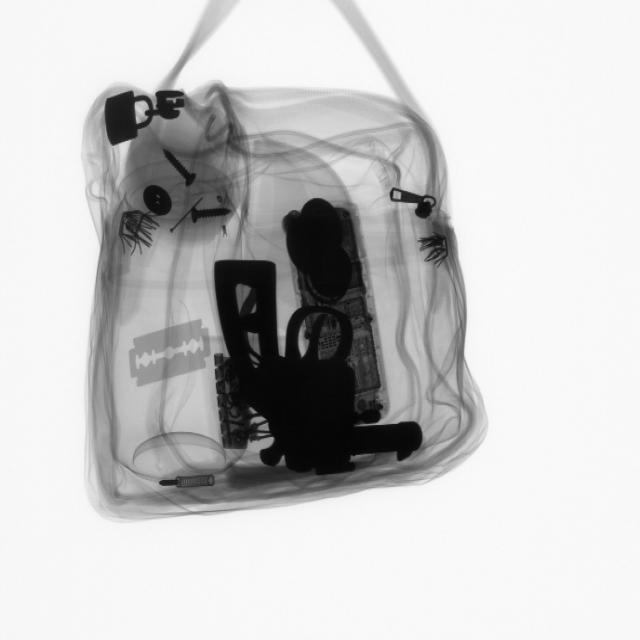BLADE: (125, 311, 219, 392)
GUN: (217, 255, 426, 476)
SCREW: (162, 142, 206, 196), (183, 198, 245, 232)
